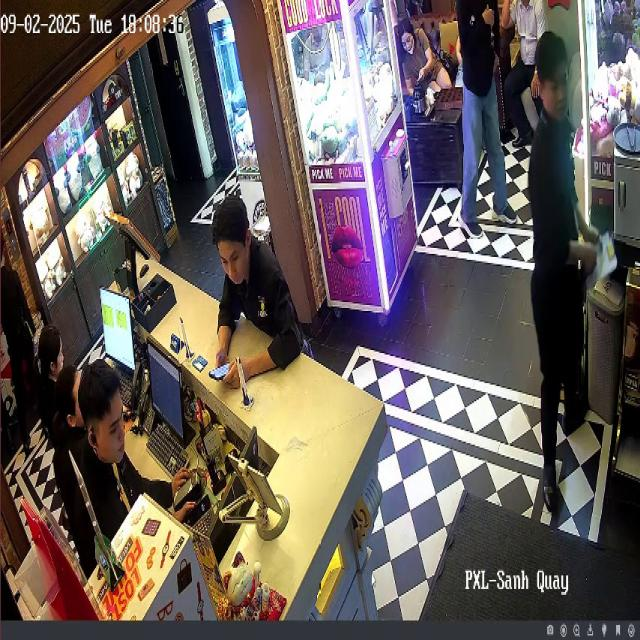khach: (457, 0, 525, 256), (498, 0, 542, 174), (396, 18, 451, 124)
nhan vien: (528, 32, 594, 535), (203, 163, 322, 403), (80, 358, 201, 550), (0, 233, 44, 467), (59, 370, 95, 578), (32, 303, 69, 491)
